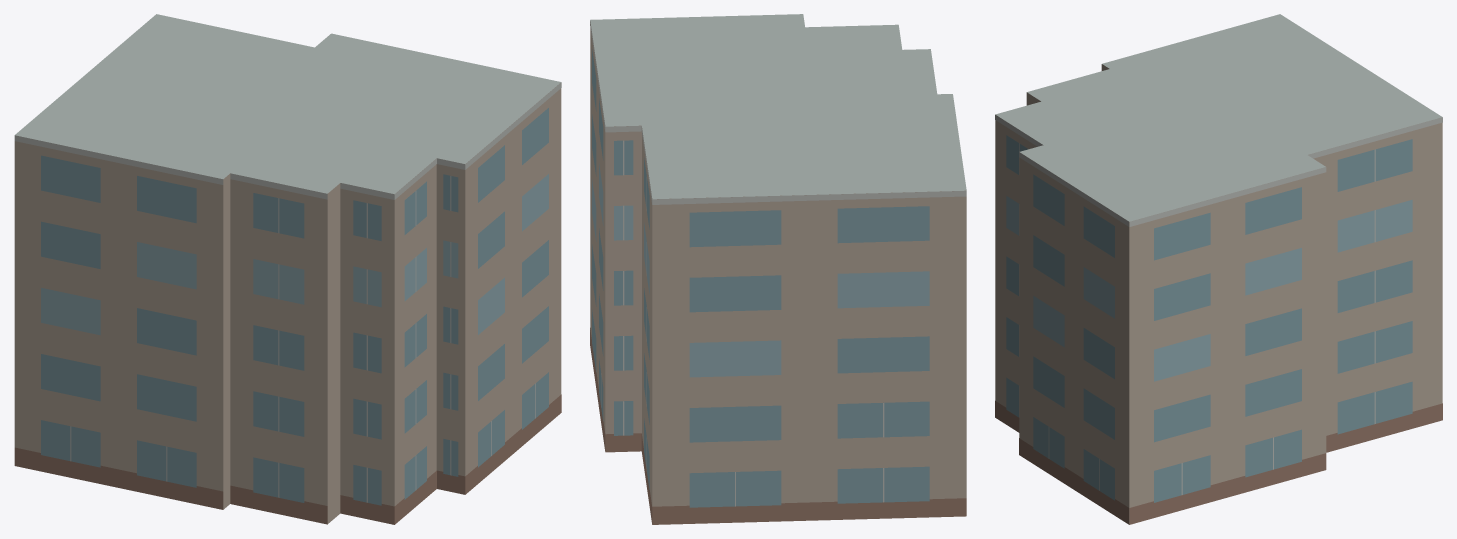
The model's file is survey-upis-32664952.glb.
The picture shows the model from 3 angles, left to right: view 1: azimuth 30°, elevation 25°; view 2: azimuth 150°, elevation 25°; view 3: azimuth 270°, elevation 25°; orthographic projection. The views are drawn at different scales.
Parts seen in each view (by area): view 1: survey-upis-32664952.tmp; view 2: survey-upis-32664952.tmp; view 3: survey-upis-32664952.tmp.
Part boxes in pixels (bbox=[...]): survey-upis-32664952.tmp: bbox=[14, 14, 561, 524]; survey-upis-32664952.tmp: bbox=[590, 14, 966, 524]; survey-upis-32664952.tmp: bbox=[995, 14, 1442, 524].
Size of the model in its own units: 20.3 by 13.8 by 18.48.
